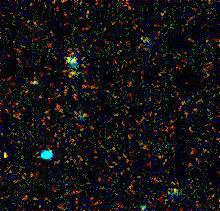star: (54, 60, 84, 90)
